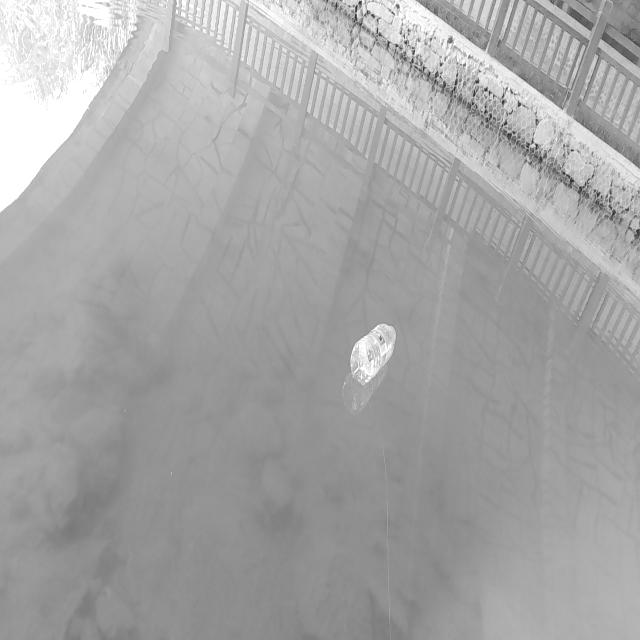bottle: (327, 315, 412, 391)
